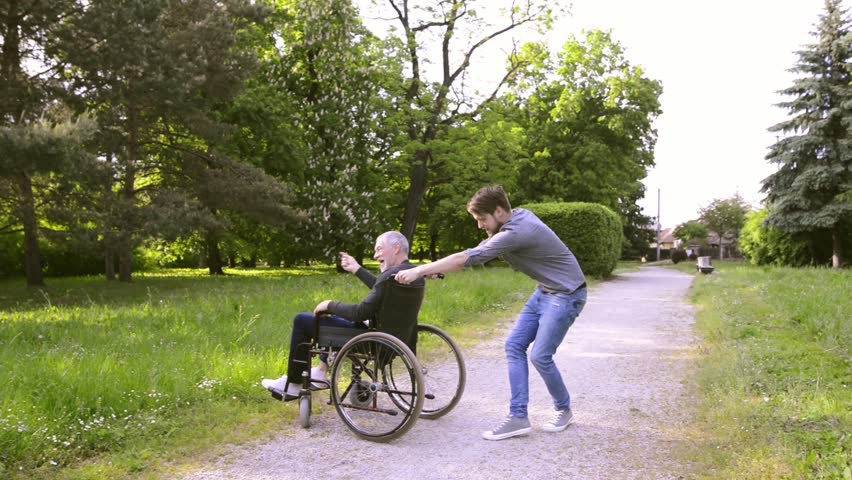Person: (394, 184, 588, 441), (262, 231, 425, 398)
